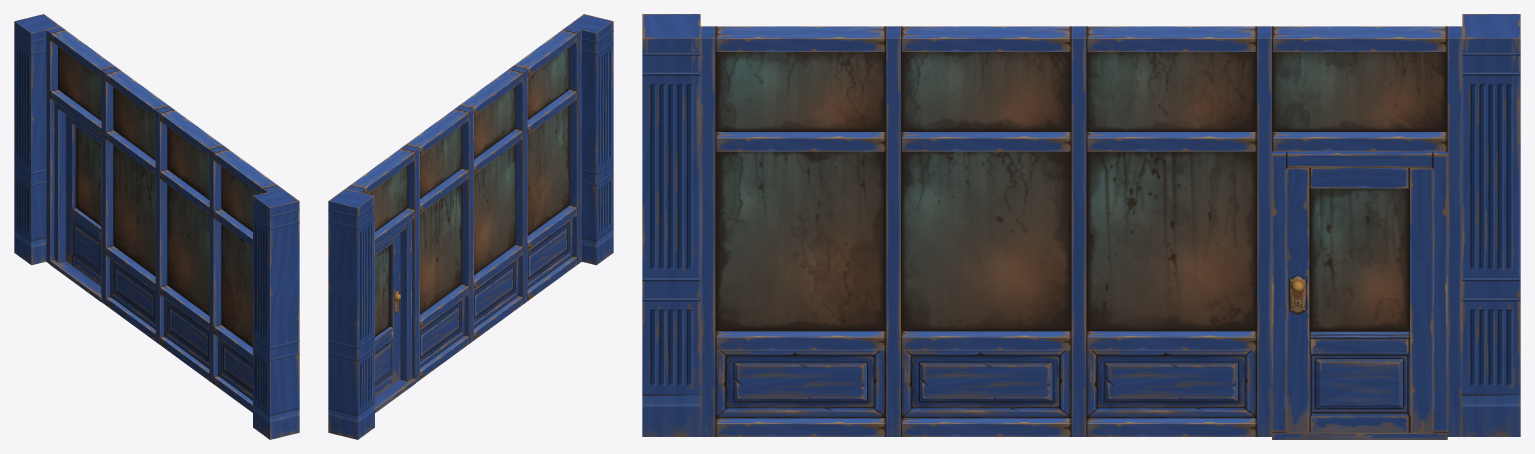
File: storeFront01.FBX
3 views of the same model, side by side, from view 1: azimuth 30°, elevation 25°; view 2: azimuth 150°, elevation 25°; view 3: azimuth 270°, elevation 25° (orthographic). The views are drawn at different scales.
Visible parts, largest first — view 1: storeFront01, storeFront01_glass01, storeFront01_glass02, storeFront01_door, storeFront01_glass03, storeFront01_door_glass, storeFront01_glass04, storeFront01_glass05, storeFront01_glass06, storeFront01_glass07; view 2: storeFront01, storeFront01_glass01, storeFront01_glass03, storeFront01_glass02, storeFront01_door, storeFront01_glass07, storeFront01_glass05, storeFront01_glass06, storeFront01_glass04, storeFront01_door_glass; view 3: storeFront01, storeFront01_glass01, storeFront01_glass03, storeFront01_glass02, storeFront01_door, storeFront01_door_glass, storeFront01_glass04, storeFront01_glass05, storeFront01_glass07, storeFront01_glass06.
Part boxes in pixels (x1=…): storeFront01: x1=14, y1=14, x2=299, y2=439; storeFront01_glass01: x1=113, y1=145, x2=155, y2=276; storeFront01_glass02: x1=167, y1=184, x2=209, y2=315; storeFront01_door: x1=65, y1=114, x2=100, y2=286; storeFront01_glass03: x1=221, y1=224, x2=252, y2=347; storeFront01_door_glass: x1=76, y1=127, x2=100, y2=225; storeFront01_glass04: x1=58, y1=46, x2=101, y2=120; storeFront01_glass05: x1=113, y1=87, x2=155, y2=160; storeFront01_glass06: x1=167, y1=126, x2=209, y2=199; storeFront01_glass07: x1=221, y1=166, x2=259, y2=231; storeFront01: x1=328, y1=14, x2=613, y2=439; storeFront01_glass01: x1=420, y1=183, x2=462, y2=314; storeFront01_glass03: x1=527, y1=104, x2=569, y2=235; storeFront01_glass02: x1=474, y1=144, x2=515, y2=274; storeFront01_door: x1=375, y1=233, x2=400, y2=397; storeFront01_glass07: x1=527, y1=46, x2=569, y2=119; storeFront01_glass05: x1=420, y1=125, x2=462, y2=198; storeFront01_glass06: x1=474, y1=86, x2=515, y2=159; storeFront01_glass04: x1=368, y1=165, x2=408, y2=231; storeFront01_door_glass: x1=375, y1=245, x2=389, y2=336; storeFront01: x1=642, y1=14, x2=1520, y2=439; storeFront01_glass01: x1=1086, y1=151, x2=1257, y2=331; storeFront01_glass03: x1=715, y1=151, x2=886, y2=331; storeFront01_glass02: x1=901, y1=151, x2=1071, y2=331; storeFront01_door: x1=1286, y1=168, x2=1432, y2=432; storeFront01_door_glass: x1=1309, y1=188, x2=1409, y2=331; storeFront01_glass04: x1=1272, y1=52, x2=1447, y2=131; storeFront01_glass05: x1=1086, y1=52, x2=1257, y2=131; storeFront01_glass07: x1=715, y1=52, x2=886, y2=131; storeFront01_glass06: x1=901, y1=52, x2=1071, y2=131.
Bounding box in the file's own units: 50 × 300 × 600.
